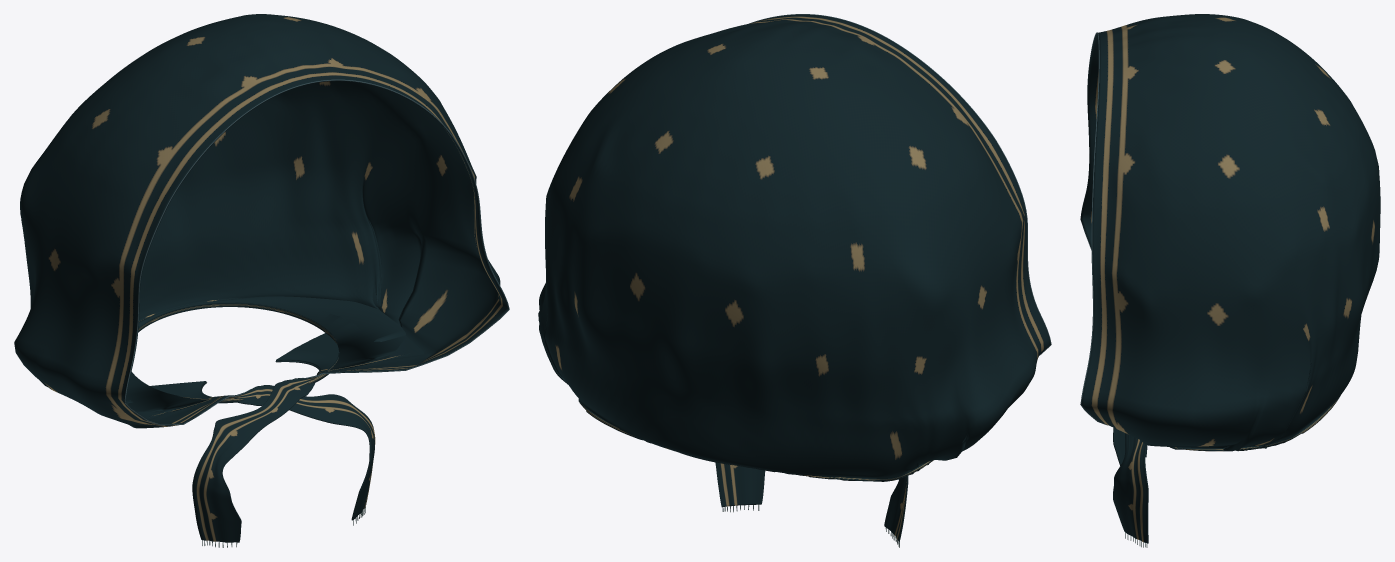
File: Feminine-curls-jersey-pashmina249-headgear.glb
3 renders of one model, left to right at view 1: azimuth 30°, elevation 25°; view 2: azimuth 150°, elevation 25°; view 3: azimuth 270°, elevation 25°, orthographic. The views are drawn at different scales.
Visible parts, largest first — view 1: 226 headgear / Headwear / continuous woven pashmina239, 226 headgear / Headwear / face edge239; view 2: 226 headgear / Headwear / continuous woven pashmina239, 226 headgear / Headwear / face edge239; view 3: 226 headgear / Headwear / continuous woven pashmina239, 226 headgear / Headwear / face edge239.
Boxes of the visible parts, bbox=[...] form: 226 headgear / Headwear / continuous woven pashmina239: bbox=[14, 14, 508, 542]; 226 headgear / Headwear / face edge239: bbox=[124, 79, 509, 425]; 226 headgear / Headwear / continuous woven pashmina239: bbox=[538, 14, 1050, 541]; 226 headgear / Headwear / face edge239: bbox=[749, 14, 1051, 355]; 226 headgear / Headwear / continuous woven pashmina239: bbox=[1080, 14, 1380, 543]; 226 headgear / Headwear / face edge239: bbox=[1080, 32, 1107, 425].
Size of the model in its own units: 1.34 by 1.41 by 0.8029.
3 materials, 1 textured.
